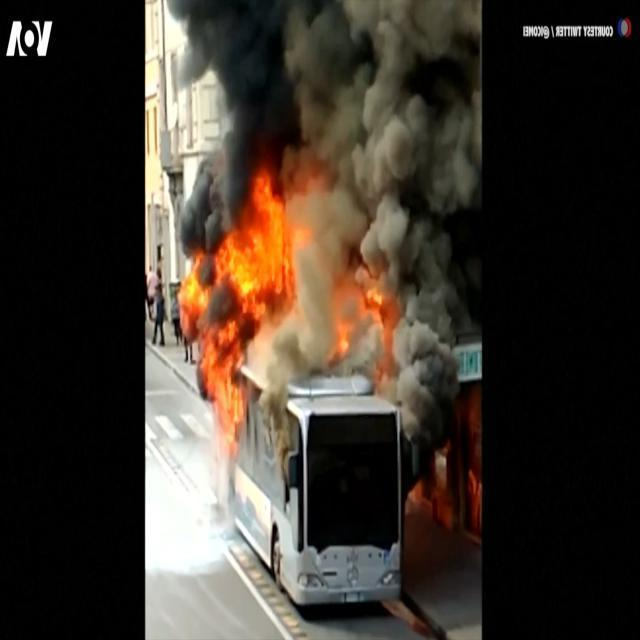fire: (184, 154, 385, 426)
